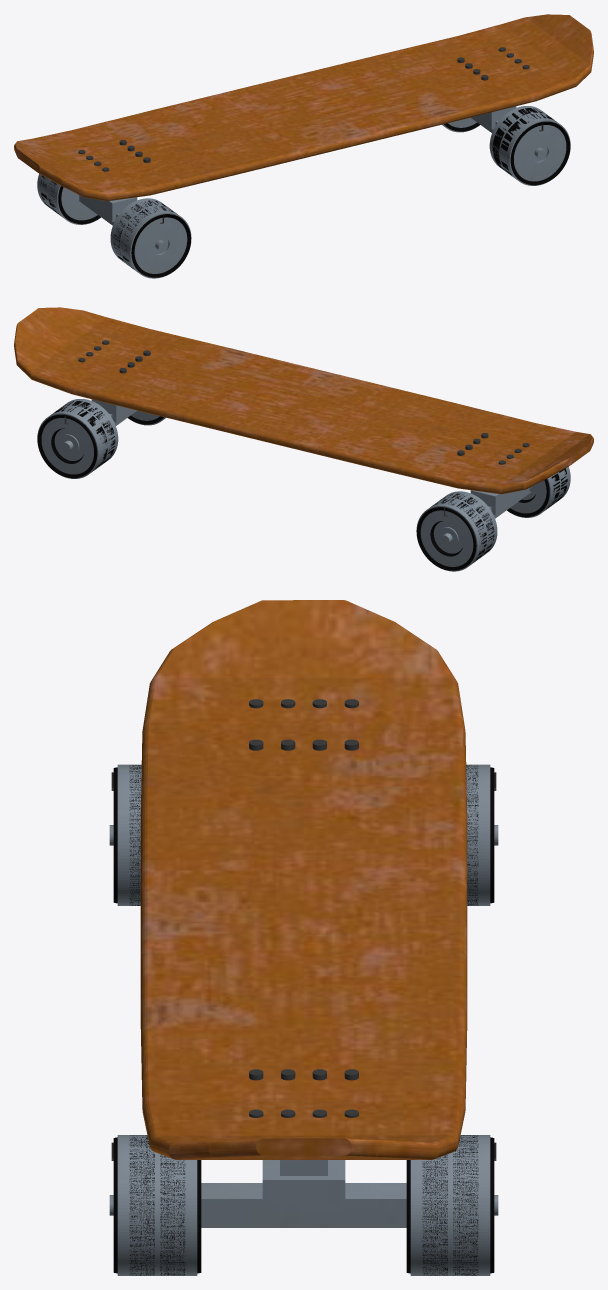
Rendered from Sports_Skateboard__0097.glb.
The picture shows the model from 3 angles, top to bottom: view 1: azimuth 30°, elevation 25°; view 2: azimuth 150°, elevation 25°; view 3: azimuth 270°, elevation 25°; orthographic projection. The views are drawn at different scales.
Visible parts, largest first — view 1: deck::deck_board, rear_wheel_0::wheel_rim, front_wheel_0::wheel_rim, front_wheel_0::wheel_tire, rear_wheel_1::wheel_rim, rear_wheel_0::wheel_tire, rear_hanger::hanger, front_hanger::hanger, rear_wheel_1::wheel_tire; view 2: deck::deck_board, rear_wheel_1::wheel_rim, front_wheel_1::wheel_rim, rear_wheel_1::wheel_tire, front_wheel_1::wheel_tire, rear_wheel_0::wheel_rim, rear_hanger::hanger, rear_wheel_0::wheel_tire, front_hanger::hanger; view 3: deck::deck_board, front_hanger::hanger, front_wheel_0::wheel_rim, front_wheel_1::wheel_rim, front_wheel_1::wheel_tire, front_wheel_0::wheel_tire, rear_wheel_1::wheel_rim, rear_wheel_0::wheel_rim, rear_wheel_0::wheel_tire, rear_wheel_1::wheel_tire.
Part boxes in pixels (bbox=[...]): deck::deck_board: bbox=[14, 14, 593, 201]; rear_wheel_0::wheel_rim: bbox=[110, 198, 191, 278]; front_wheel_0::wheel_rim: bbox=[489, 106, 570, 185]; front_wheel_0::wheel_tire: bbox=[492, 108, 570, 185]; rear_wheel_1::wheel_rim: bbox=[37, 173, 99, 224]; rear_wheel_0::wheel_tire: bbox=[113, 200, 190, 277]; rear_hanger::hanger: bbox=[79, 195, 167, 251]; front_hanger::hanger: bbox=[471, 106, 546, 159]; rear_wheel_1::wheel_tire: bbox=[40, 175, 100, 224]; deck::deck_board: bbox=[14, 307, 593, 494]; rear_wheel_1::wheel_rim: bbox=[416, 491, 497, 571]; front_wheel_1::wheel_rim: bbox=[37, 399, 118, 478]; rear_wheel_1::wheel_tire: bbox=[417, 493, 494, 570]; front_wheel_1::wheel_tire: bbox=[37, 401, 115, 478]; rear_wheel_0::wheel_rim: bbox=[508, 466, 570, 517]; rear_hanger::hanger: bbox=[440, 488, 530, 544]; rear_wheel_0::wheel_tire: bbox=[507, 468, 567, 517]; front_hanger::hanger: bbox=[61, 399, 136, 452]; deck::deck_board: bbox=[140, 600, 467, 1159]; front_hanger::hanger: bbox=[109, 1160, 498, 1227]; front_wheel_0::wheel_rim: bbox=[117, 1135, 197, 1275]; front_wheel_1::wheel_rim: bbox=[410, 1135, 490, 1275]; front_wheel_1::wheel_tire: bbox=[406, 1135, 494, 1275]; front_wheel_0::wheel_tire: bbox=[113, 1135, 201, 1275]; rear_wheel_1::wheel_rim: bbox=[466, 764, 490, 905]; rear_wheel_0::wheel_rim: bbox=[117, 764, 141, 905]; rear_wheel_0::wheel_tire: bbox=[113, 765, 141, 905]; rear_wheel_1::wheel_tire: bbox=[466, 764, 494, 905].
Bounding box in the file's own units: 0.8 × 0.1491 × 0.244.
4 materials, 3 textured.
